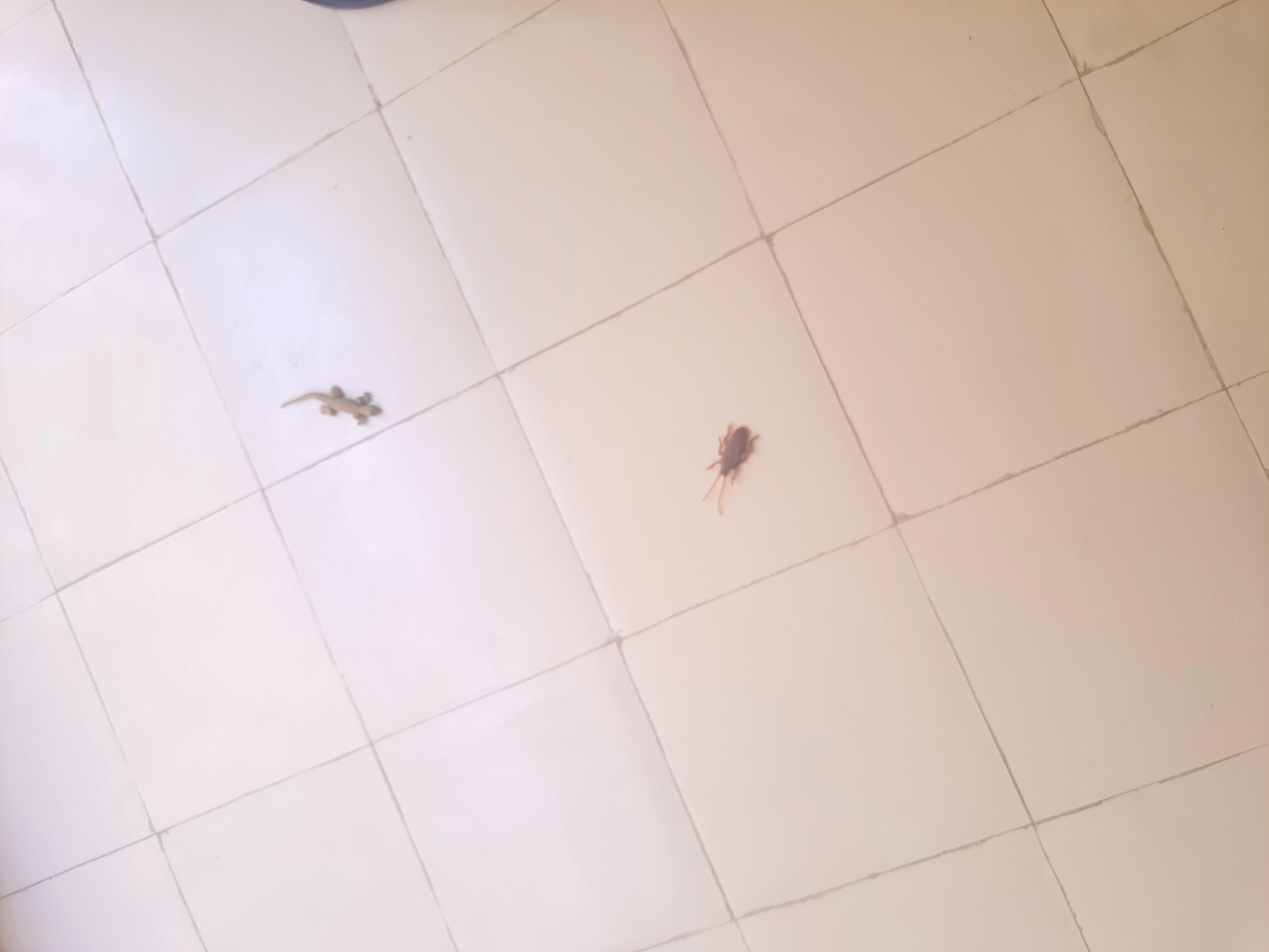cockroach: (589, 515, 703, 570)
lizard: (682, 198, 769, 298)
